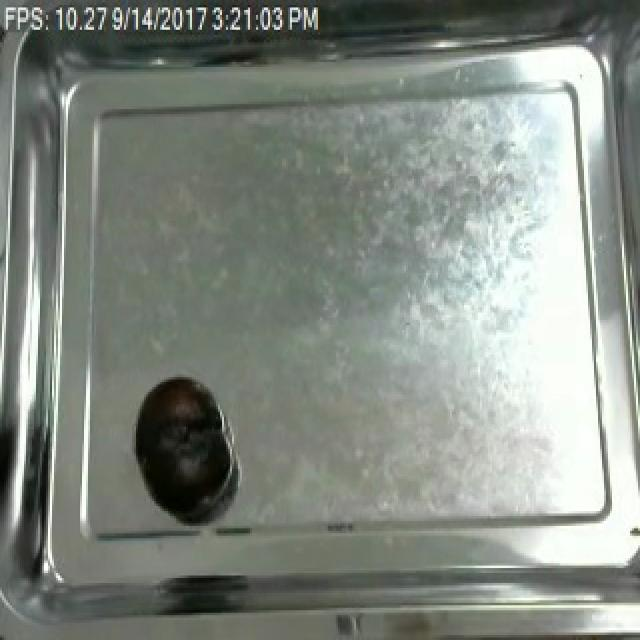Fruit: (132, 372, 230, 509)
